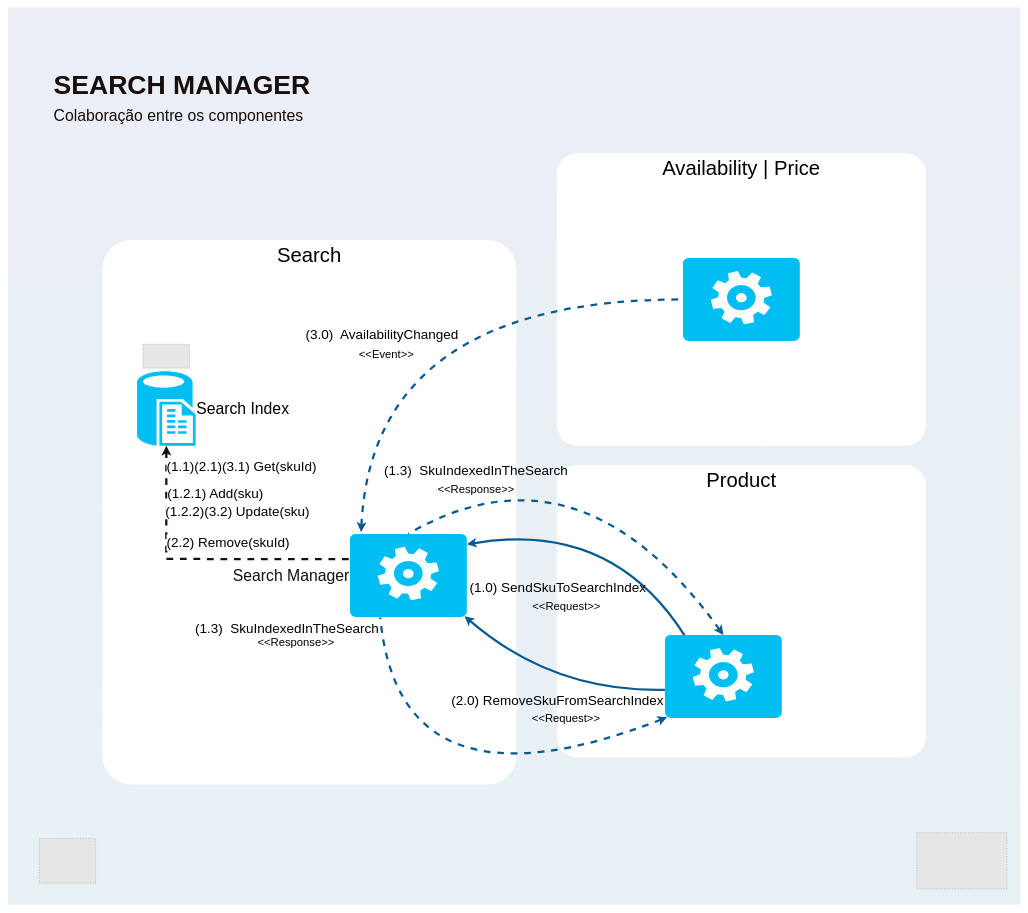
Some shapes in this 1028 by 913 pixel diagram are drawn without their labels. Grey dashed boxes stand in for pictures. Each missing label, with the centre of its shape:
"Availability Manager" goes at point 741,299.
"Saga Manager" goes at point 723,676.
